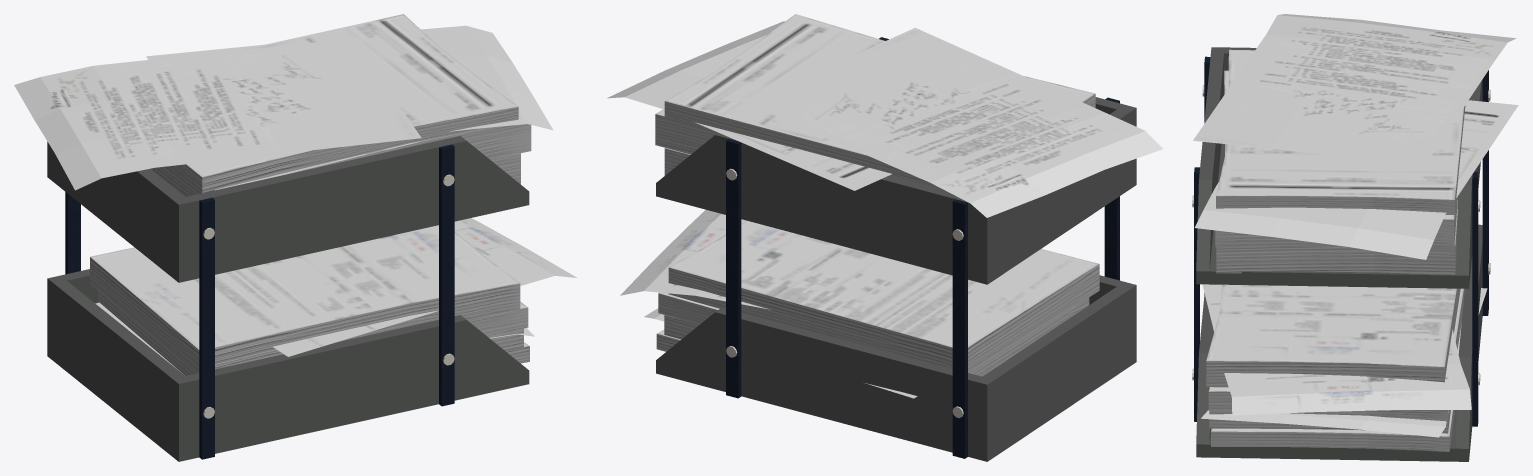
Rendered from file_boxes_01.glb.
3 renders of one model, left to right at view 1: azimuth 30°, elevation 25°; view 2: azimuth 150°, elevation 25°; view 3: azimuth 270°, elevation 25°, orthographic. The views are drawn at different scales.
Visible parts, largest first — view 1: File Boxes; view 2: File Boxes; view 3: File Boxes.
Boxes of the visible parts, left/top/right/bottom form: File Boxes: left=14, top=14, right=576, bottom=461; File Boxes: left=607, top=14, right=1162, bottom=461; File Boxes: left=1192, top=14, right=1518, bottom=461.
Bounding box in the file's own units: 2.61 × 1.39 × 1.56.
Materials: 2 (2 with a texture image).
